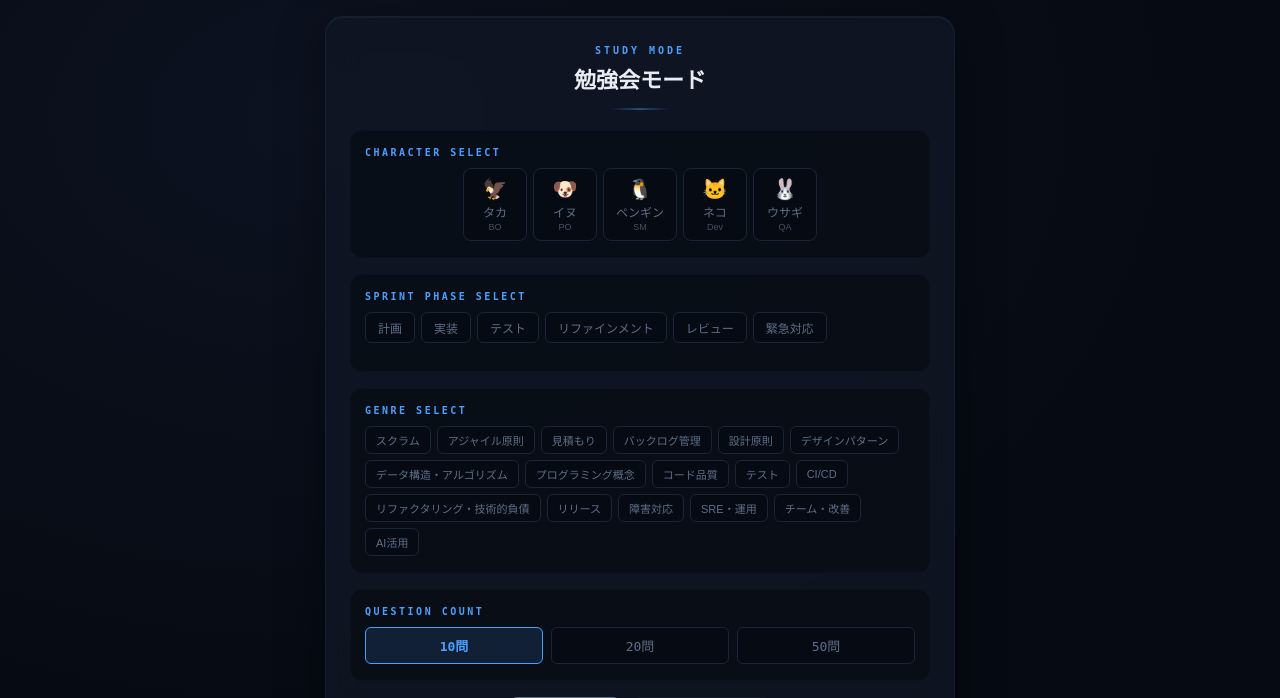
StudySelectScreen - キャラクター選択 › 学習開始 › キャラクター選択後に学習開始ボタンが有効になる
Click the text "タカ" at (495, 212), box [483, 203, 507, 220]
(page scrolled)
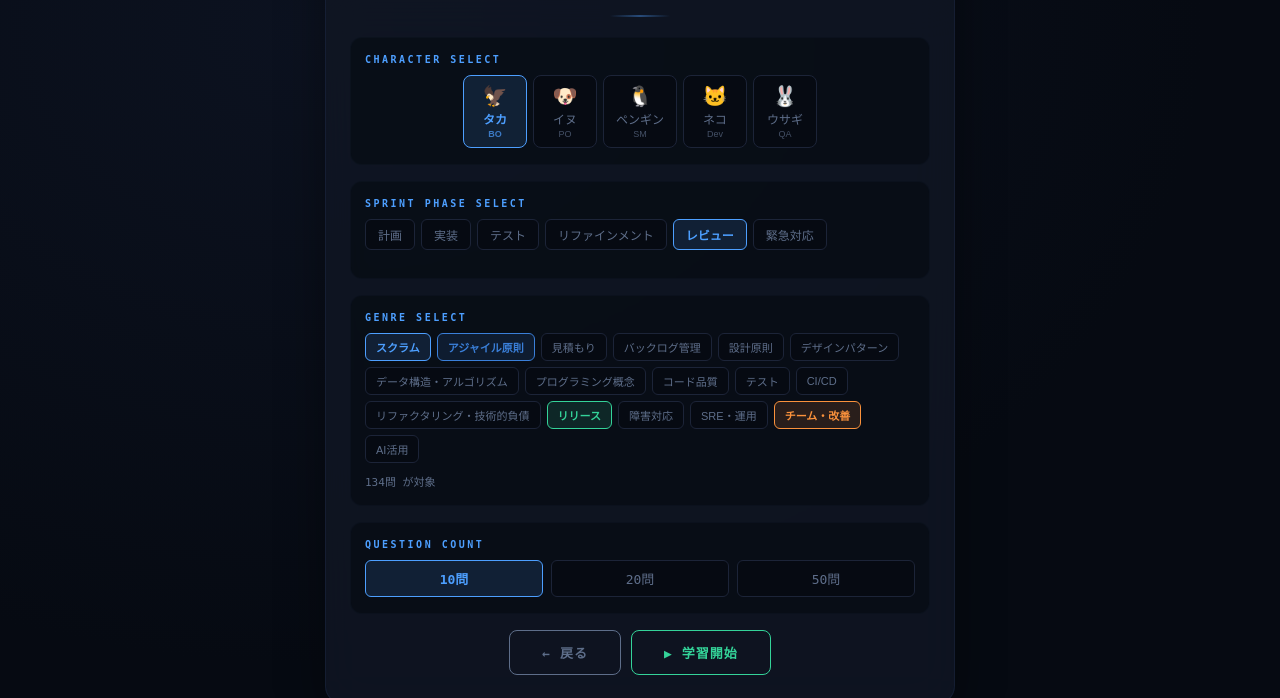
Expected: the button "▶ 学習開始" is enabled, [631, 630, 771, 675]
